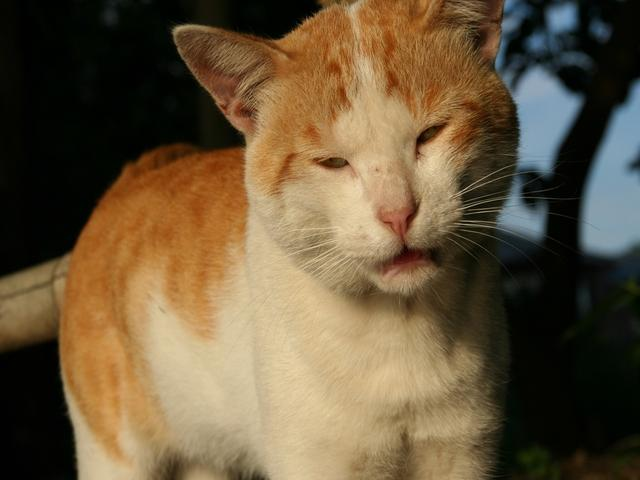cat: (112, 13, 534, 474)
